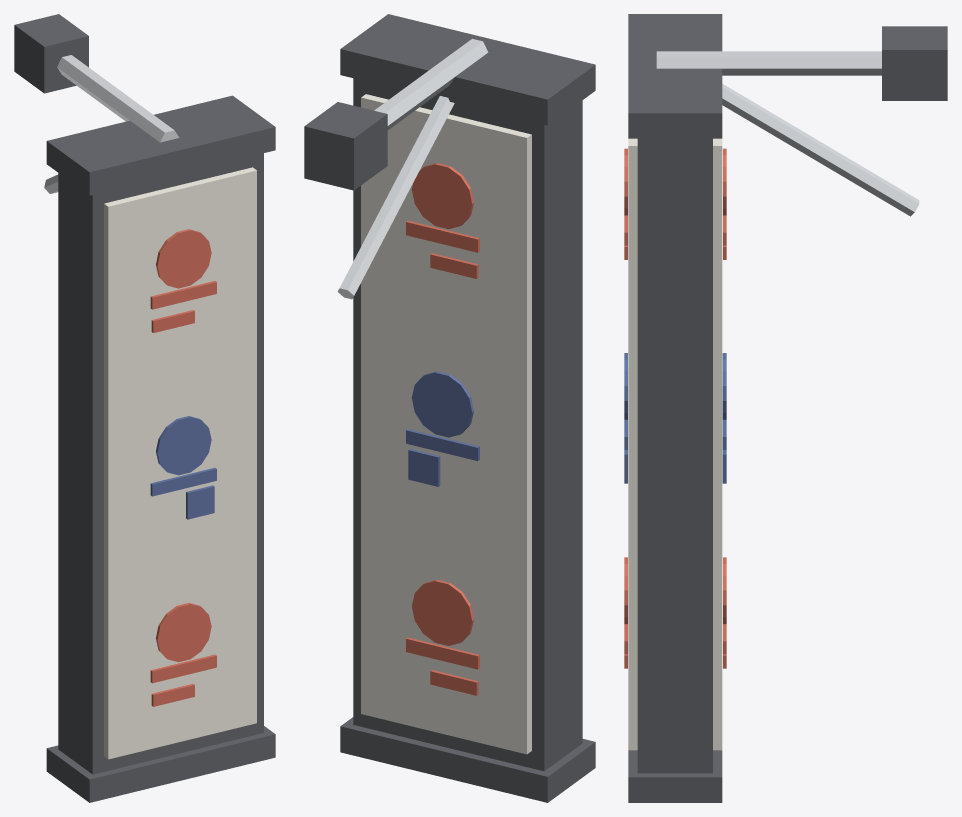
The model's file is hanging_signboard.glb.
The picture shows the model from 3 angles, left to right: view 1: azimuth 30°, elevation 25°; view 2: azimuth 150°, elevation 25°; view 3: azimuth 270°, elevation 25°; orthographic projection. The views are drawn at different scales.
Visible parts, largest first — view 1: hanging-signboard-cream, hanging-signboard-charcoal, hanging-signboard-vermilion, hanging-signboard-indigo, hanging-signboard-steel; view 2: hanging-signboard-cream, hanging-signboard-charcoal, hanging-signboard-vermilion, hanging-signboard-steel, hanging-signboard-indigo; view 3: hanging-signboard-charcoal, hanging-signboard-cream, hanging-signboard-steel, hanging-signboard-vermilion, hanging-signboard-indigo.
Part boxes in pixels (bbox=[...]): hanging-signboard-cream: bbox=[104, 167, 256, 759]; hanging-signboard-charcoal: bbox=[14, 14, 275, 802]; hanging-signboard-vermilion: bbox=[150, 229, 216, 706]; hanging-signboard-indigo: bbox=[150, 416, 216, 519]; hanging-signboard-steel: bbox=[44, 55, 179, 193]; hanging-signboard-cream: bbox=[361, 94, 531, 754]; hanging-signboard-charcoal: bbox=[304, 14, 595, 802]; hanging-signboard-vermilion: bbox=[406, 163, 479, 695]; hanging-signboard-steel: bbox=[337, 38, 488, 299]; hanging-signboard-indigo: bbox=[406, 371, 479, 486]; hanging-signboard-charcoal: bbox=[628, 14, 947, 802]; hanging-signboard-cream: bbox=[628, 138, 722, 750]; hanging-signboard-steel: bbox=[656, 51, 919, 216]; hanging-signboard-vermilion: bbox=[624, 148, 726, 668]; hanging-signboard-indigo: bbox=[624, 353, 726, 483].
Size of the model in its own units: 0.5 by 1.68 by 0.689.
